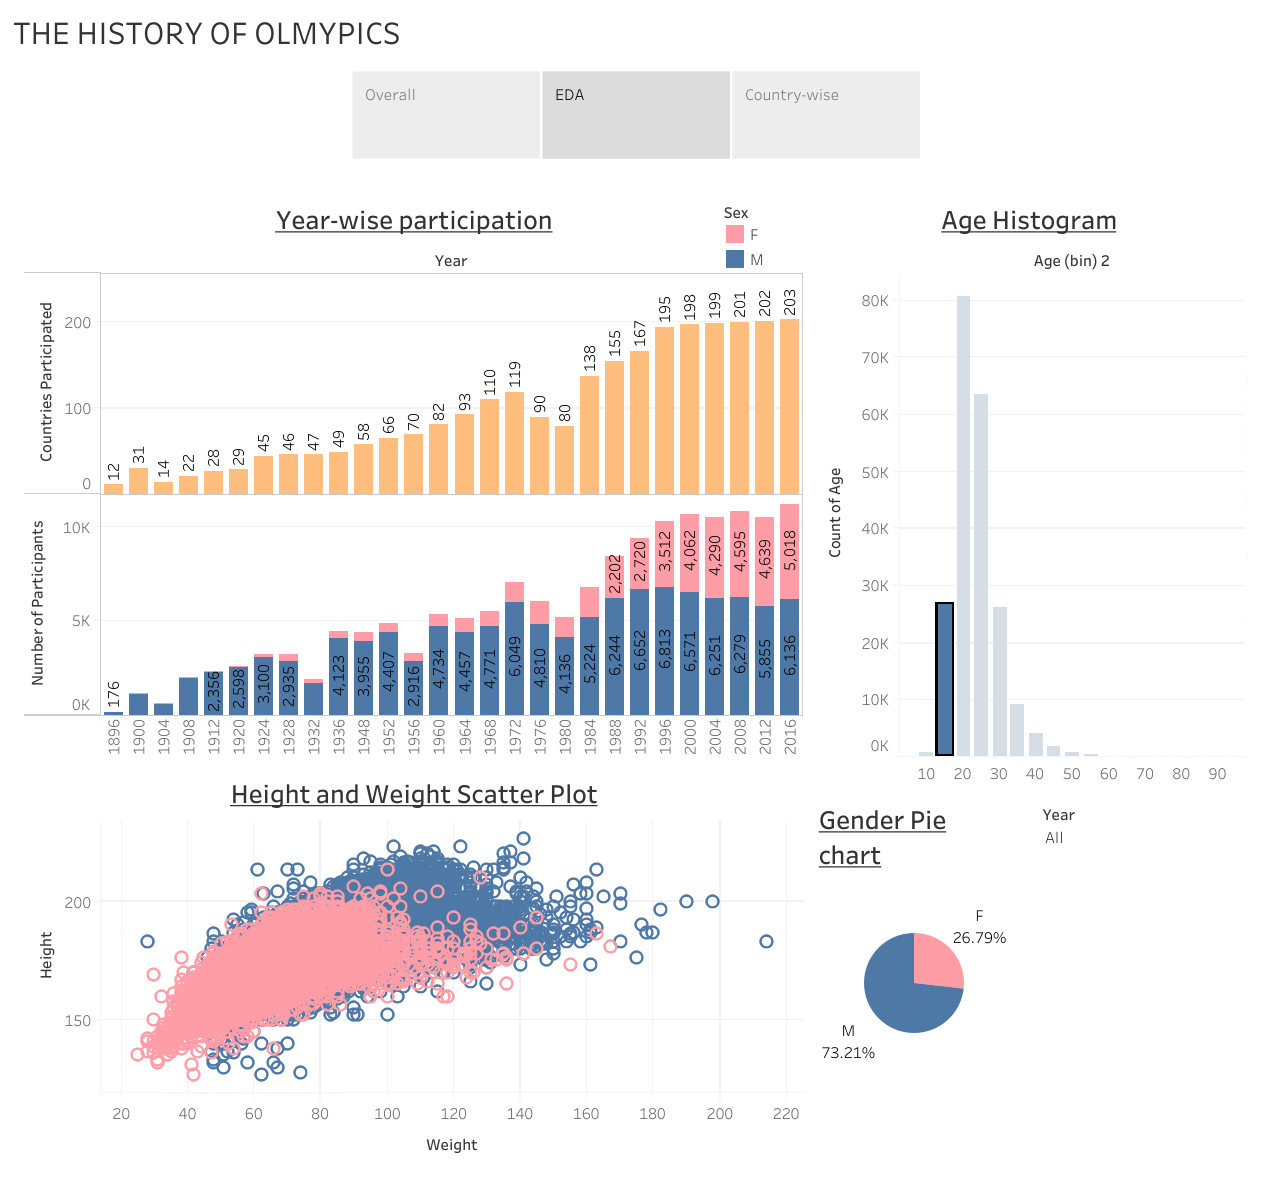

Layout of this report page (visuals, bound fields, positions):
{"tool":"tableau","page":{"name":"Dashboard EDA","canvas":[1000,800],"ordinal":1},"visuals":[{"type":"worksheet","title":"Participation","mark":"Automatic","rows":["country","ID"],"cols":["Year"],"box":[8,8,631,459]},{"type":"worksheet","title":"Age histogram","mark":"Automatic","rows":["Age"],"cols":["Age (bin) 2"],"box":[639,8,353,480]},{"type":"legend","title":"Participation","param":"[federated.0h1xndf1fd1zb4165xbdf0hfktvs].[none:Sex:nk]","box":[570,15,64,64]},{"type":"worksheet","title":"Scatter Plot","mark":"Automatic","rows":["Height"],"cols":["Weight"],"box":[8,467,631,325]},{"type":"worksheet","title":"Gender pie chart","mark":"Pie","box":[639,488,353,304]},{"type":"filter","title":"Gender pie chart","param":"[federated.0h1xndf1fd1zb4165xbdf0hfktvs].[none:Year:ok]","box":[826,498,168,61]}]}

Visuals, with their boxes on the page's 1000x800 design canvas (x1, y1, x2, y2). These are canvas units, not pixel positions in the 1269x1204 screenshot, which may show the page scaled, cropped or inside an application window:
"Participation" worksheet: BBox(8, 8, 639, 467)
"Age histogram" worksheet: BBox(639, 8, 992, 488)
"Participation" legend: BBox(570, 15, 634, 79)
"Scatter Plot" worksheet: BBox(8, 467, 639, 792)
"Gender pie chart" worksheet (Pie marks): BBox(639, 488, 992, 792)
"Gender pie chart" filter: BBox(826, 498, 994, 559)
